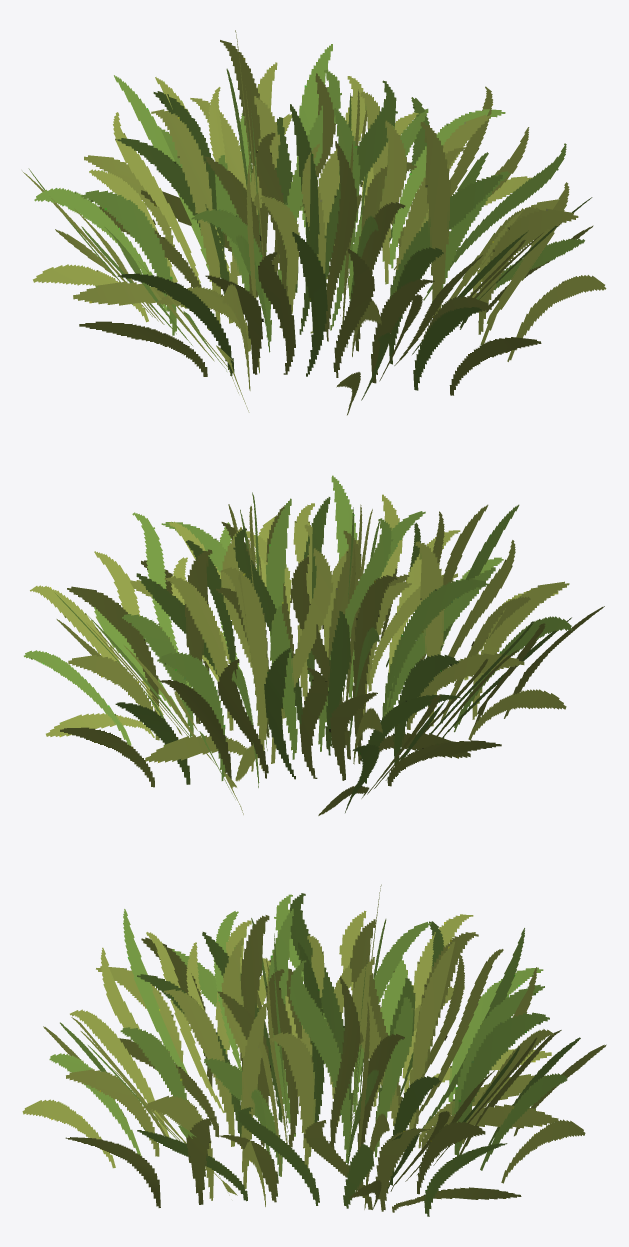
Rendered from Short_Grass_Patch_2.gltf.
3 renders of one model, top to bottom at view 1: azimuth 30°, elevation 25°; view 2: azimuth 150°, elevation 25°; view 3: azimuth 270°, elevation 25°, orthographic. The views are drawn at different scales.
Visible parts, largest first — view 1: Short_Grass_Patch_2; view 2: Short_Grass_Patch_2; view 3: Short_Grass_Patch_2.
Boxes of the visible parts, box(x1,y1,x2,y2) form: Short_Grass_Patch_2: box(22, 30, 606, 415); Short_Grass_Patch_2: box(24, 475, 604, 815); Short_Grass_Patch_2: box(22, 884, 606, 1216).
Bounding box in the file's own units: 35.64 × 16.86 × 37.87.
1 material, 1 textured.
